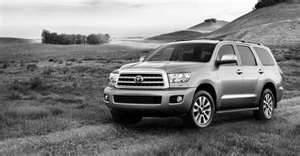car: (104, 39, 286, 135)
